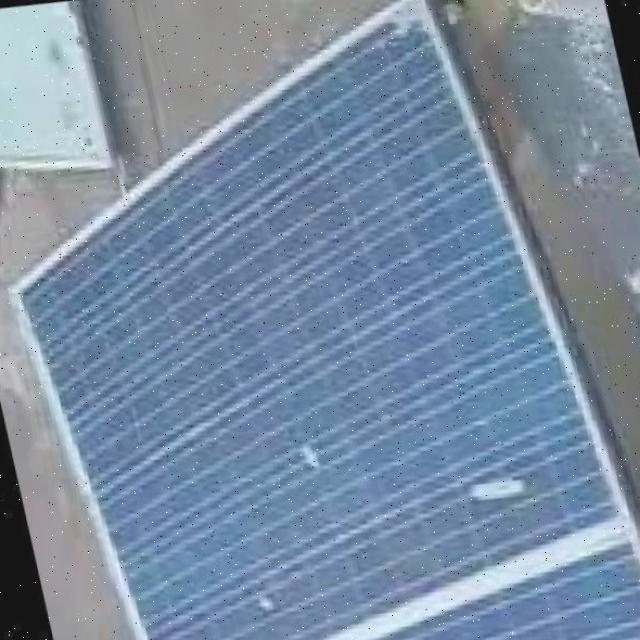Anomaly Solar Panel: (0, 1, 640, 640)
Snow: (279, 430, 331, 487), (458, 474, 524, 510)
